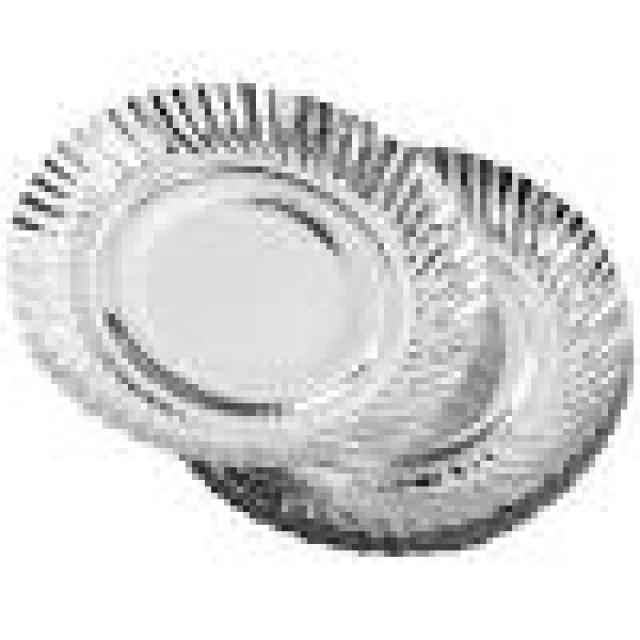Paper -Biodegradable-: (11, 83, 628, 556)
